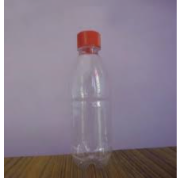Bottle: (68, 30, 116, 169)
